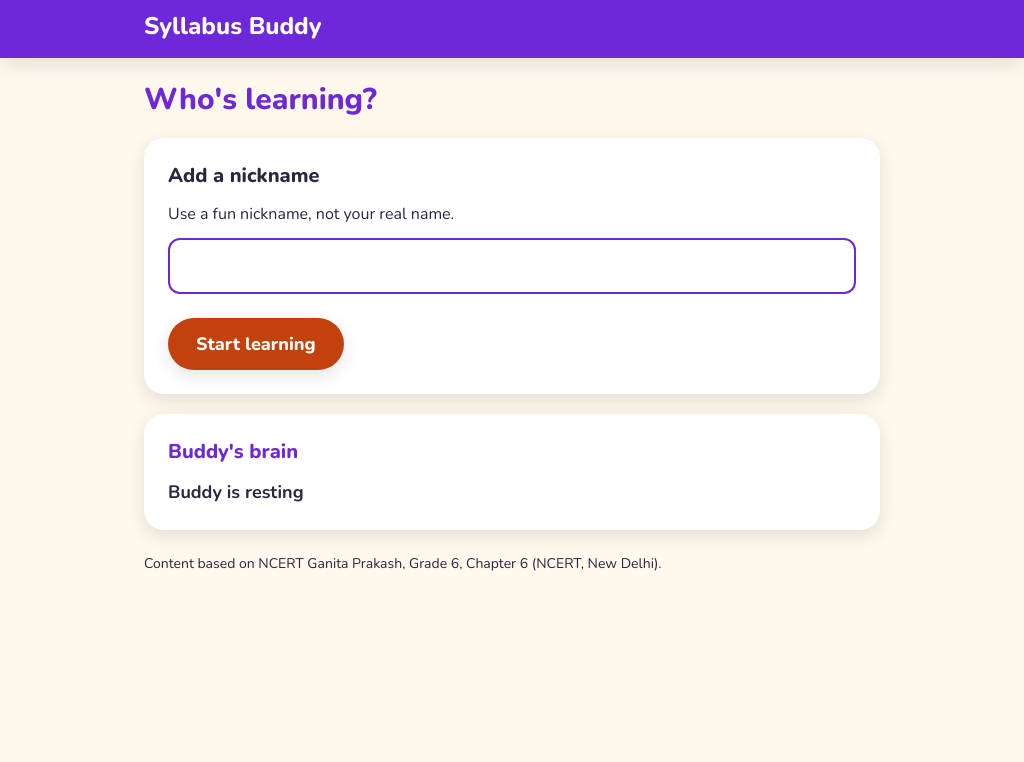
LearnerApp › greys out Check my answer when empty and after a check until the answer changes
The width and height of the screenshot is (1024, 762).
In the field labelled "Add a nickname": (512, 266) [168,238,856,294], type "Riya"
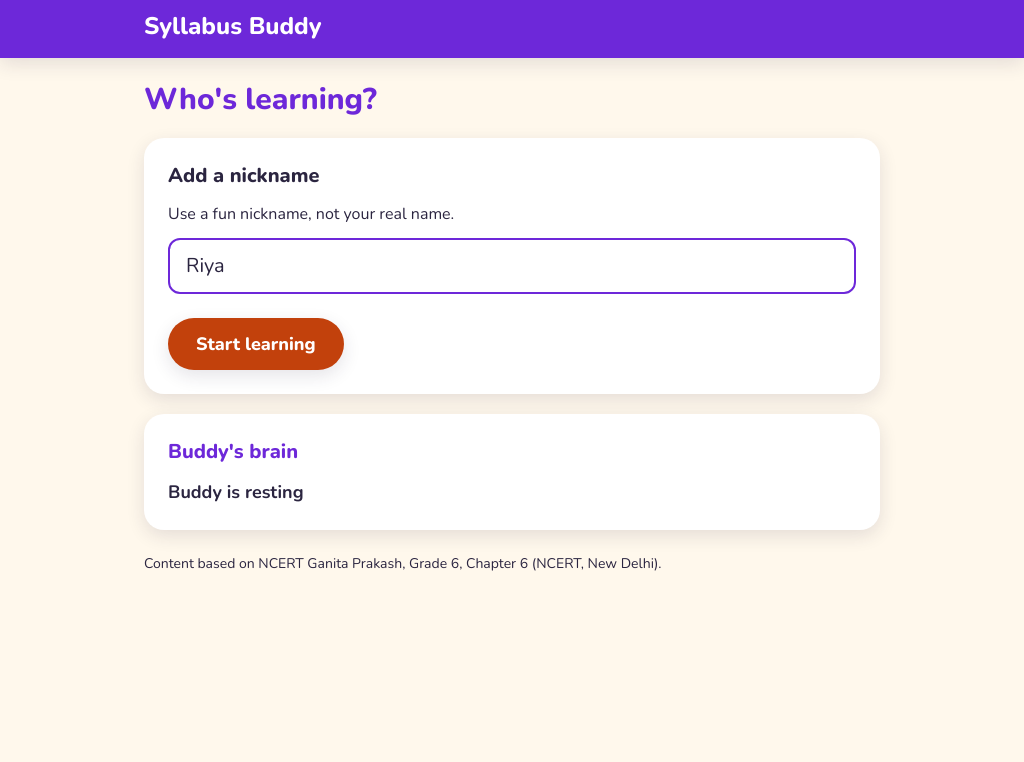
Click the button "Start learning": (256, 344) [168,318,344,370]
(page scrolled)
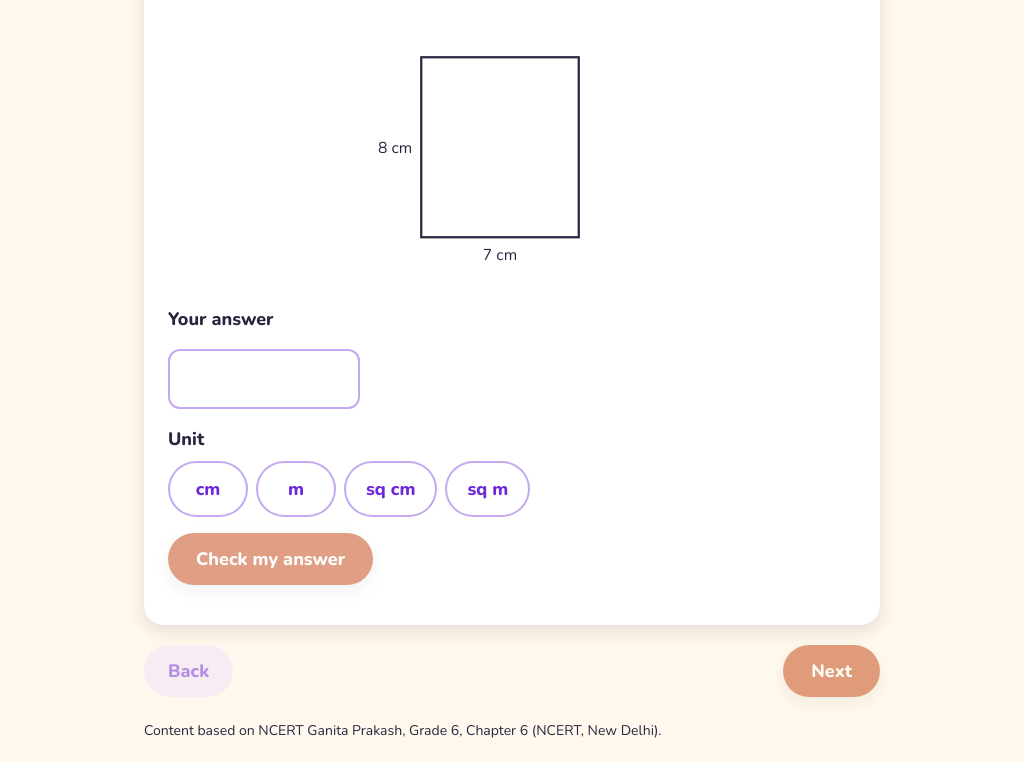
Check: the button "Check my answer" is disabled, box [168,533,373,585]
In the field labelled "Your answer": (264, 379) [168,349,360,409], type "999999"
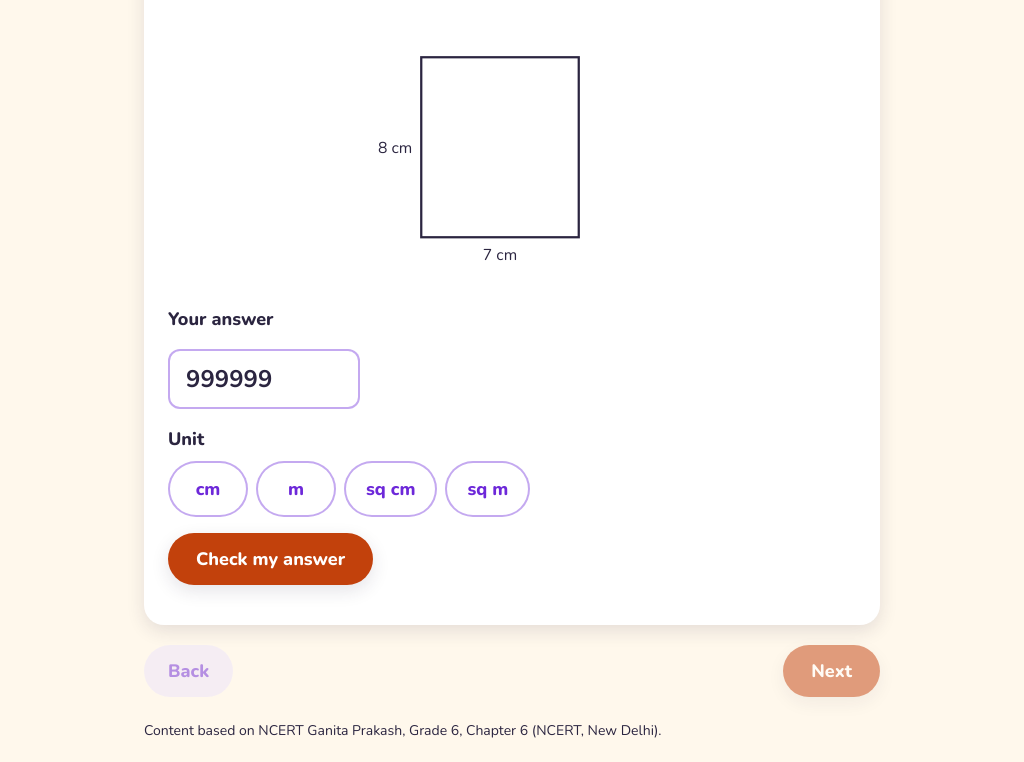
Check: the button "Check my answer" is enabled
Click the button "Check my answer": (271, 559) [168,533,373,585]
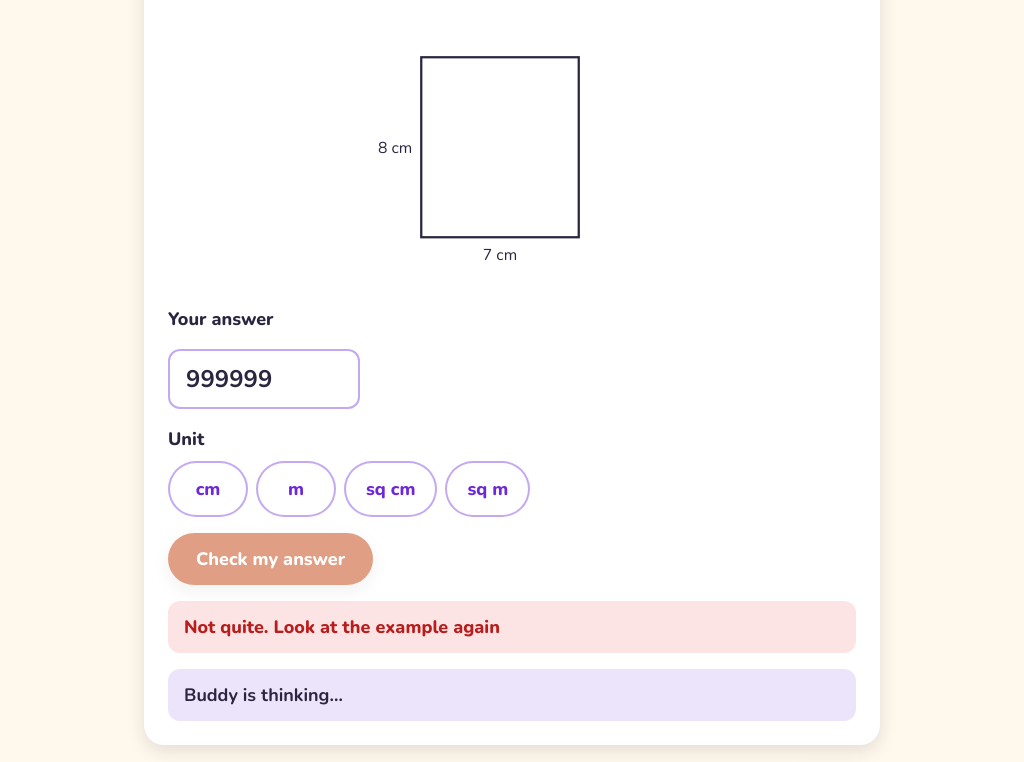
Click the button "Check my answer": (271, 559) [168,533,373,585]
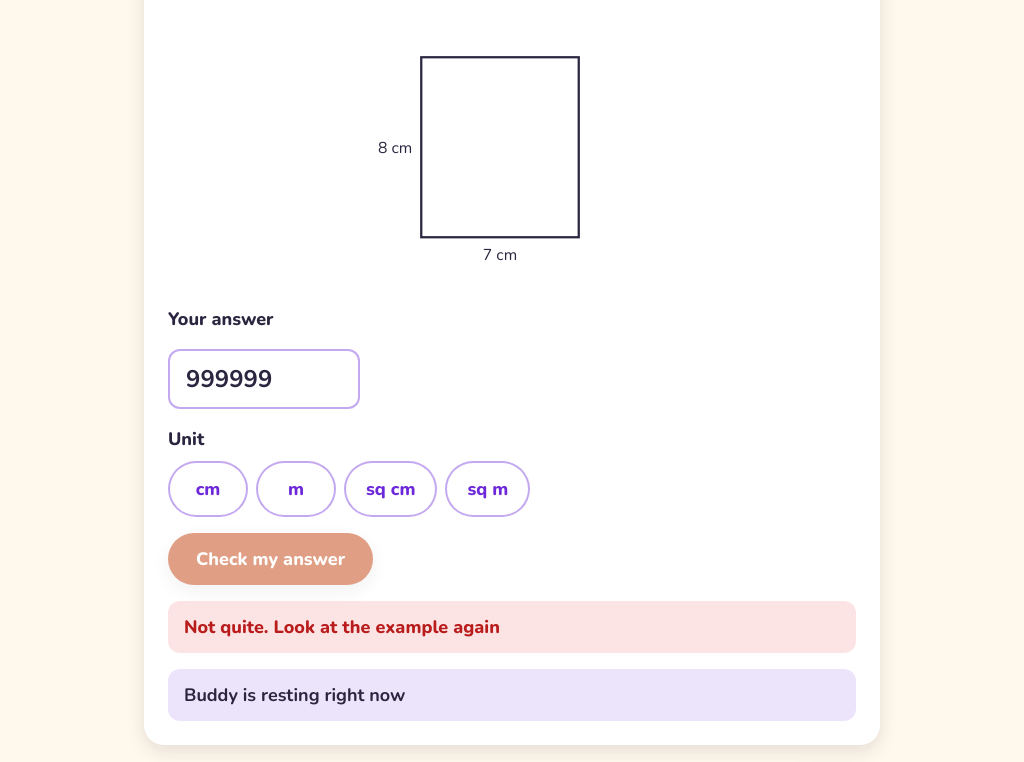
Check: the button "Check my answer" is disabled, box [168,533,373,585]
Click the button "cm": (208, 489) [168,461,248,517]
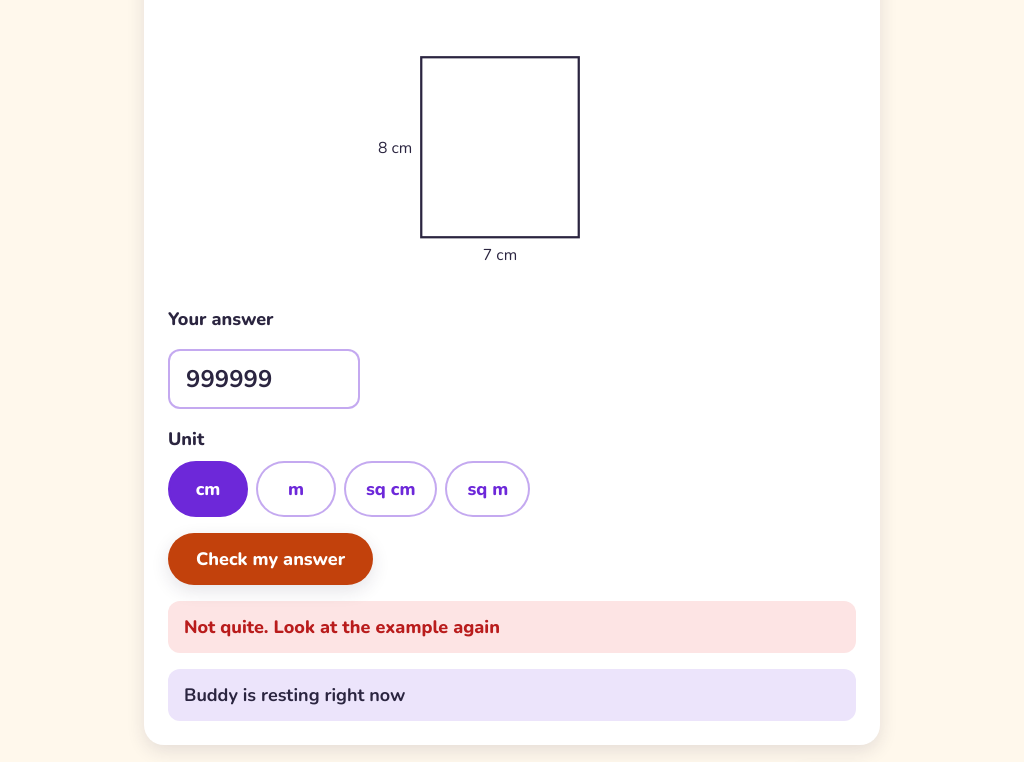
Check: the button "Check my answer" is enabled, box [168,533,373,585]
